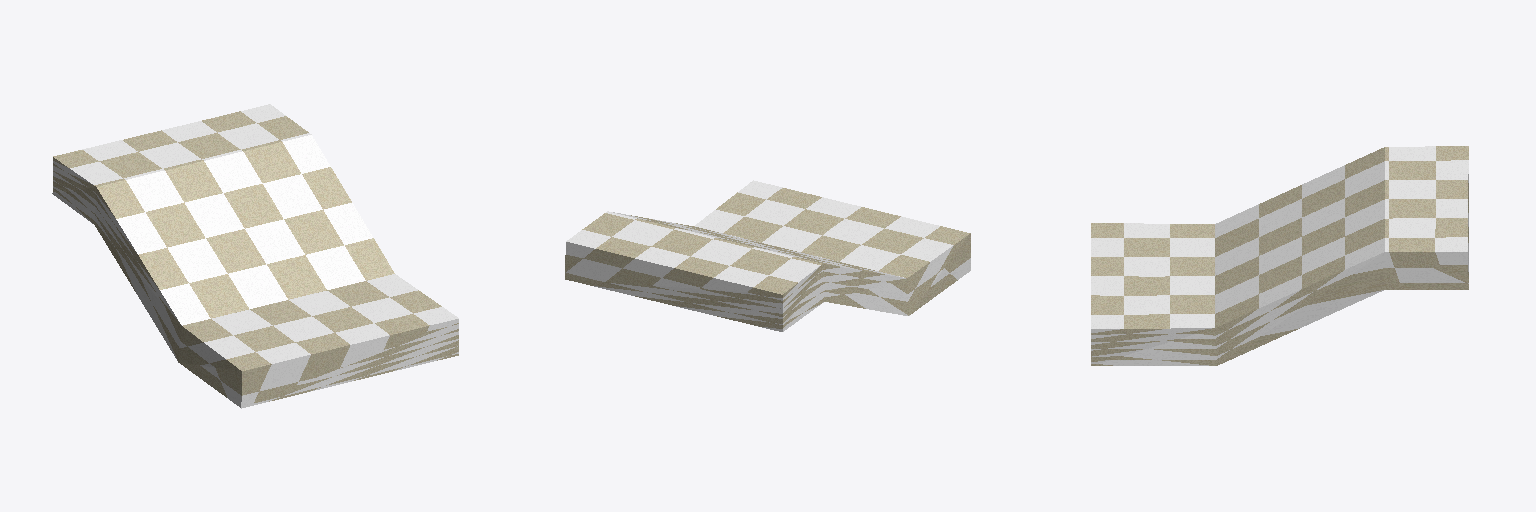
3 views of the same model, side by side, from view 1: azimuth 30°, elevation 25°; view 2: azimuth 150°, elevation 25°; view 3: azimuth 270°, elevation 25° (orthographic).
Visible parts, largest first — view 1: Plane; view 2: Plane; view 3: Plane.
Part boxes in pixels (bbox=[...]): Plane: bbox=[52, 104, 458, 408]; Plane: bbox=[565, 180, 970, 331]; Plane: bbox=[1091, 146, 1468, 365].
Bounding box in the file's own units: 892 × 444 × 1337.
Materials: 2 (2 with a texture image).